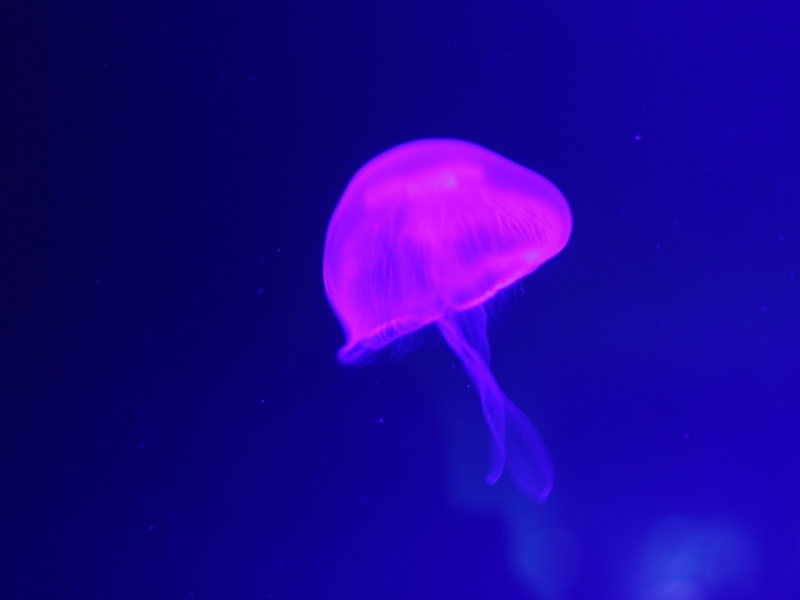Jellyfish: (320, 135, 576, 501)
